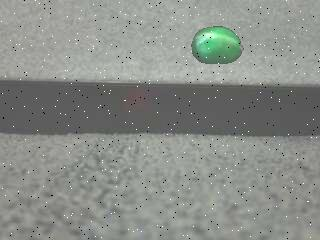Lime: (190, 25, 245, 66)
